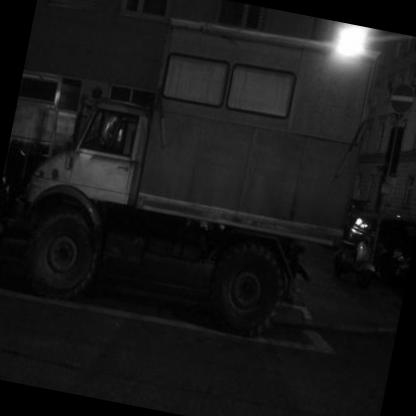truck: (1, 39, 388, 376)
